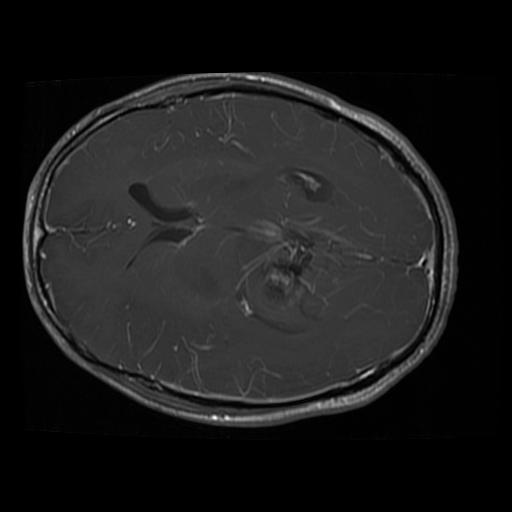glioma: (260, 216, 325, 311)
